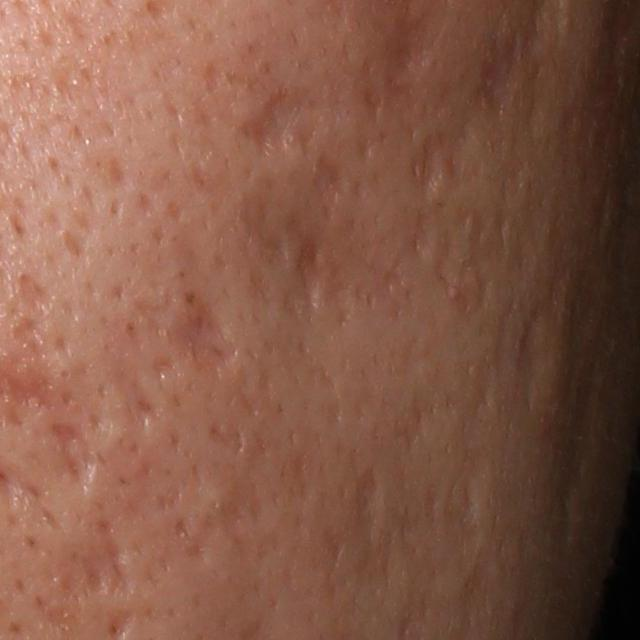atrophic_scar: (185, 455, 278, 558), (228, 81, 333, 162), (44, 521, 141, 608), (156, 283, 245, 376), (326, 465, 391, 570), (439, 459, 490, 545), (48, 418, 101, 491), (296, 230, 333, 316), (110, 361, 158, 423), (513, 321, 545, 412), (410, 135, 447, 203), (311, 153, 345, 221), (159, 464, 205, 512), (407, 214, 435, 267), (208, 417, 247, 453), (12, 316, 47, 356), (19, 272, 49, 316), (60, 226, 89, 261), (175, 516, 190, 540)
